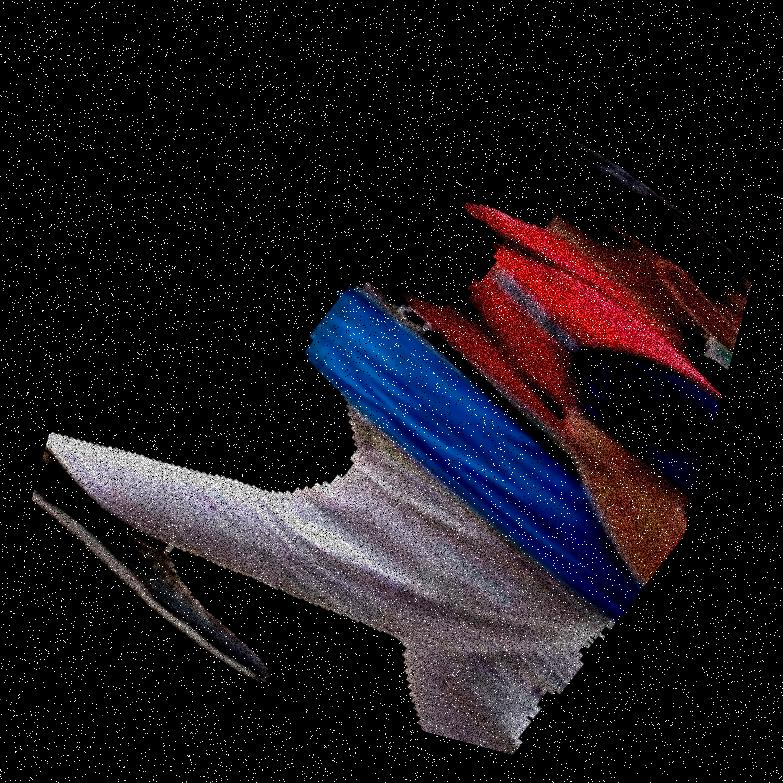Pessoa: (394, 0, 679, 782)
